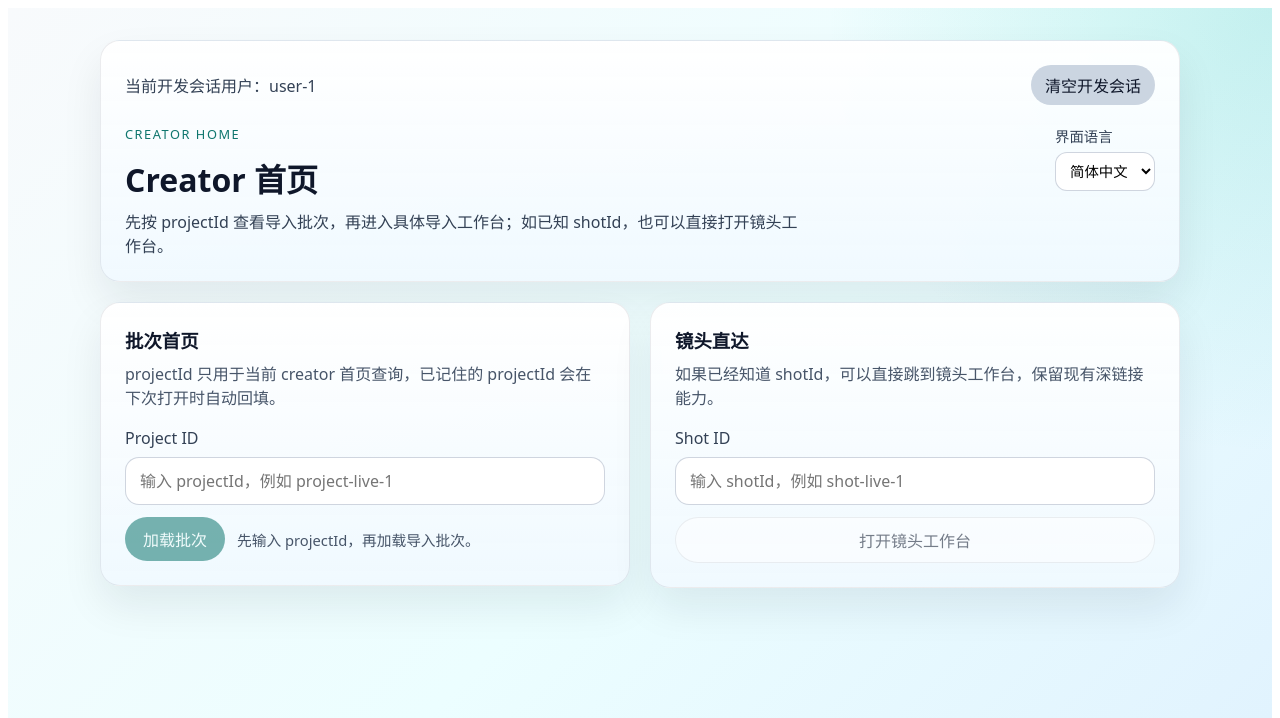
Test: App › submits a projectId from the homepage, updates the URL, and persists it locally
This screenshot has width=1280, height=718.
Expected: the heading "Creator 首页" is shown, [125,158,318,201]
In the field labelled "Project ID": [365, 481] box [125,457,605,505], type "project-home-submit"
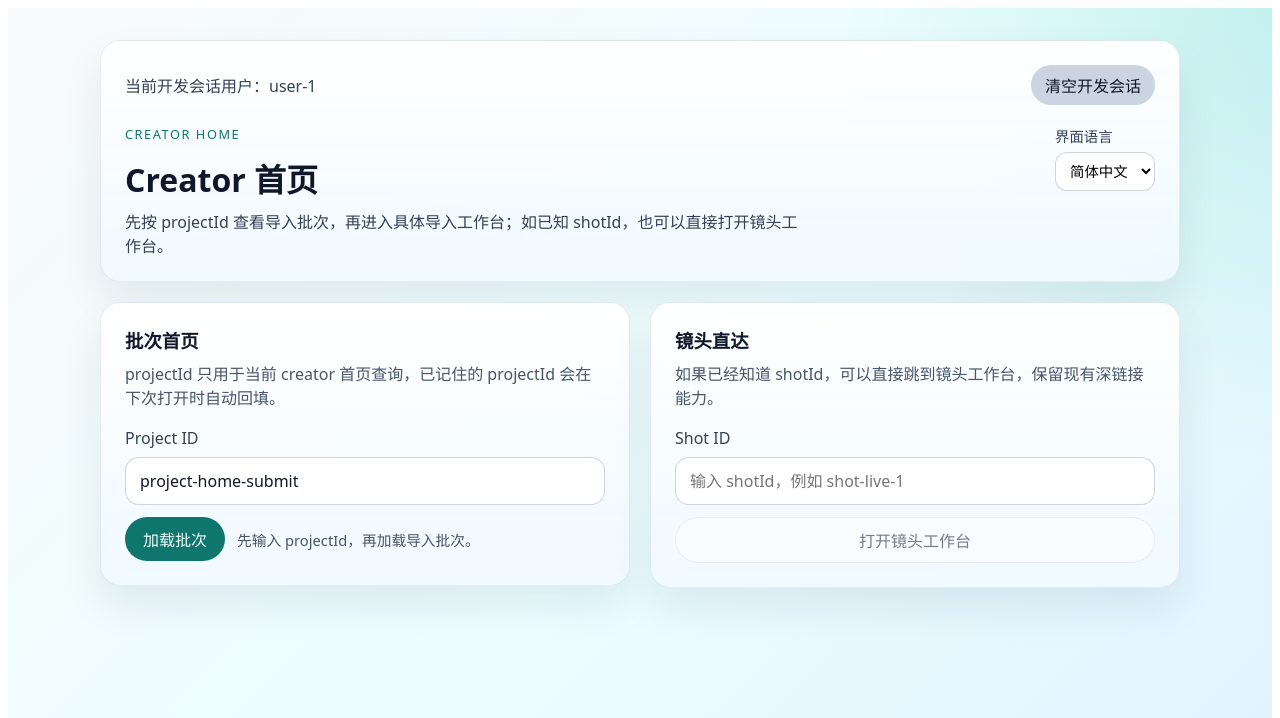
Click the button "加载批次": [175, 539] box [125,517,225,561]
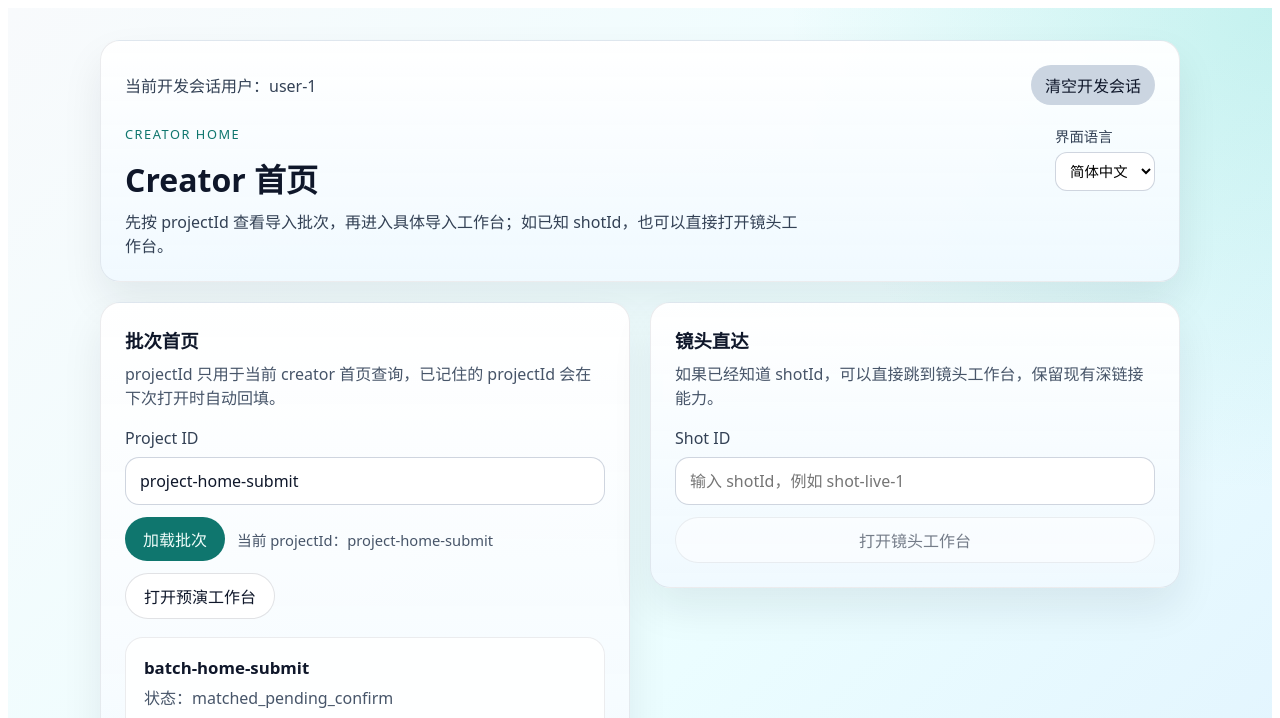
Expected: the heading "batch-home-submit" is shown, [144,656,309,679]
